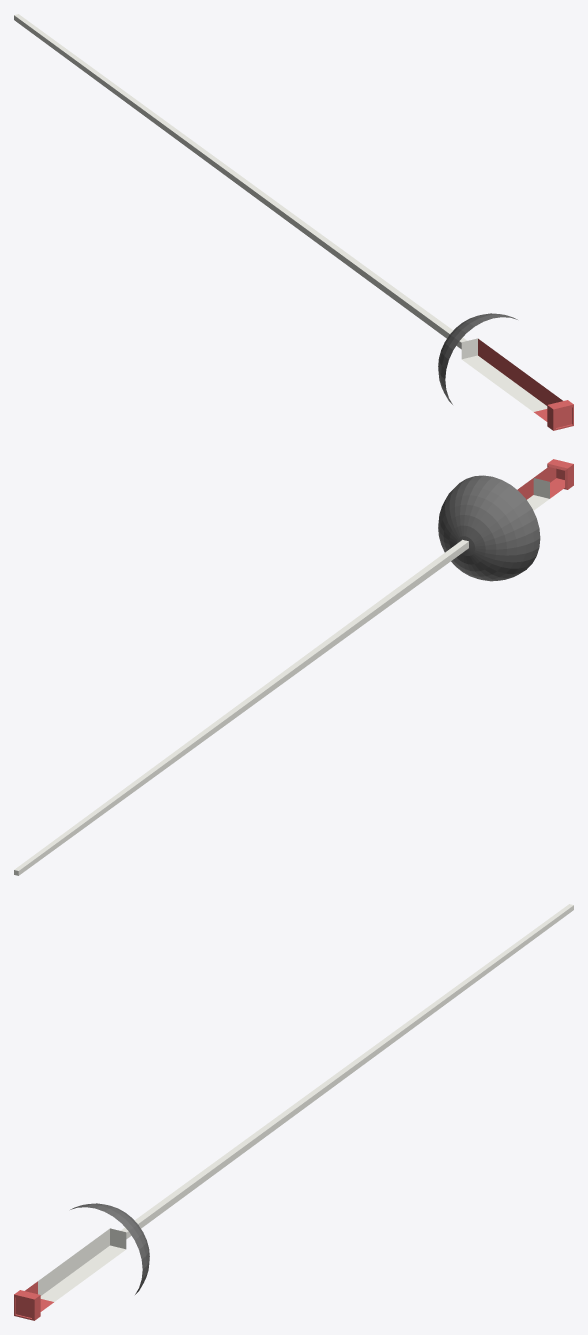
Rendered from epee-by-aroniastudios-XDPIttaXk1.glb.
3 renders of one model, top to bottom at view 1: azimuth 30°, elevation 25°; view 2: azimuth 150°, elevation 25°; view 3: azimuth 330°, elevation 25°, orthographic.
Visible parts, largest first — view 1: Cube, Sphere; view 2: Sphere, Cube; view 3: Cube, Sphere.
Part boxes in pixels (bbox=[...]): Cube: bbox=[14, 14, 573, 430]; Sphere: bbox=[438, 313, 517, 404]; Sphere: bbox=[438, 475, 540, 581]; Cube: bbox=[14, 459, 573, 875]; Cube: bbox=[14, 904, 573, 1320]; Sphere: bbox=[70, 1203, 149, 1294].
Size of the model in its own units: 11.64 by 11.64 by 116.
